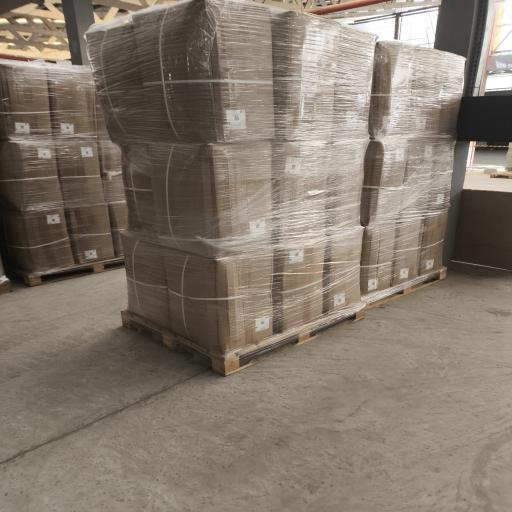pallet: (122, 304, 364, 376), (362, 267, 446, 309), (6, 257, 124, 286), (0, 280, 12, 294), (490, 172, 511, 178)
